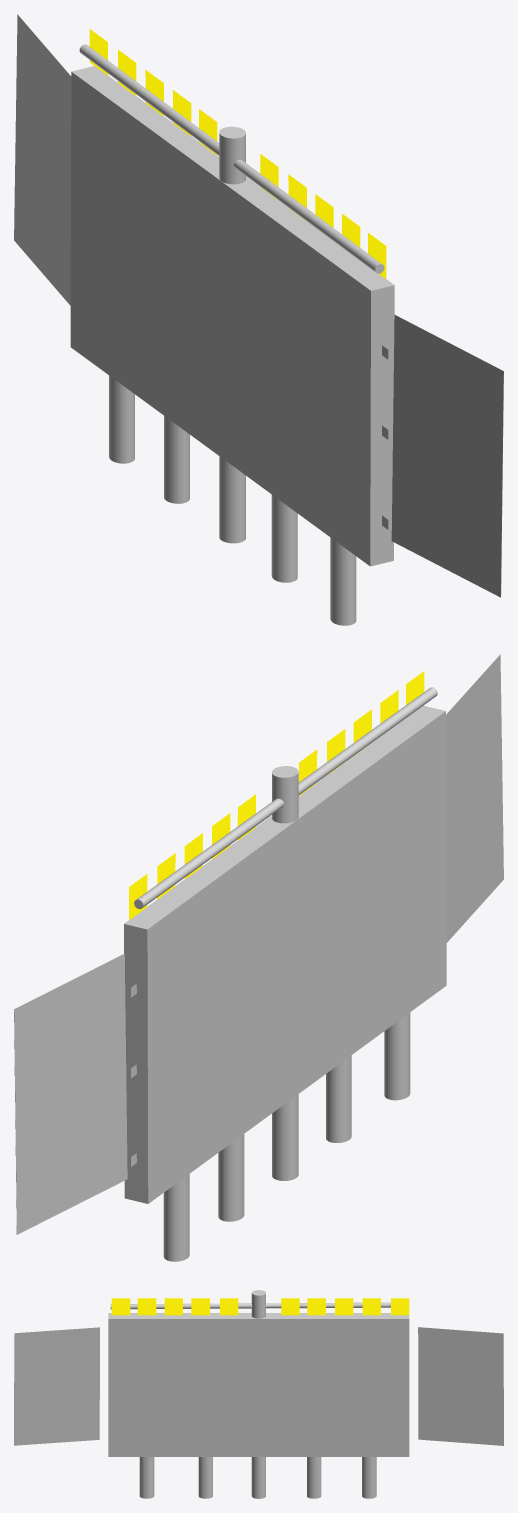
File: bill-board.glb
3 renders of one model, top to bottom at view 1: azimuth 30°, elevation 25°; view 2: azimuth 150°, elevation 25°; view 3: azimuth 270°, elevation 25°, orthographic. The views are drawn at different scales.
Visible parts, largest first — view 1: Board, LeftPanel, RightPanel, LightSupport, MainPillar, Pillar, Pillar.003, Pillar.001, Pillar.002; view 2: Board, RightPanel, LeftPanel, LightSupport, MainPillar, Pillar.003, Pillar.002, Pillar.001, Pillar; view 3: Board, LeftPanel, RightPanel, MainPillar, Pillar.003, Pillar, Pillar.002, Pillar.001, LightSupport, BloomLight.008, BloomLight.009, BloomLight.003 (+7 smaller).
Boxes of the visible parts, x1,y1,x2,y2 form: Board: (70, 66, 394, 566); LeftPanel: (391, 315, 503, 597); RightPanel: (14, 14, 71, 305); LightSupport: (79, 44, 384, 273); MainPillar: (219, 126, 245, 543); Pillar: (271, 495, 297, 582); Pillar.003: (330, 537, 356, 625); Pillar.001: (109, 375, 134, 463); Pillar.002: (164, 416, 189, 503); Board: (124, 705, 446, 1203); RightPanel: (14, 953, 127, 1234); LeftPanel: (446, 654, 503, 942); LightSupport: (134, 687, 437, 909); MainPillar: (272, 766, 298, 1180); Pillar.003: (384, 1012, 410, 1100); Pillar.002: (218, 1134, 244, 1221); Pillar.001: (163, 1174, 189, 1261); Pillar: (326, 1055, 351, 1142); Board: (108, 1313, 409, 1456); LeftPanel: (14, 1327, 99, 1445); RightPanel: (418, 1327, 503, 1445); MainPillar: (251, 1290, 265, 1498); Pillar.003: (139, 1457, 154, 1498); Pillar: (198, 1457, 212, 1498); Pillar.002: (307, 1457, 321, 1498); Pillar.001: (362, 1457, 376, 1498); LightSupport: (110, 1302, 390, 1309); BloomLight.008: (137, 1298, 156, 1315); BloomLight.009: (111, 1298, 130, 1315); BloomLight.003: (307, 1298, 325, 1315).
Bounding box in the file's own units: 1.47 × 13.89 × 30.31.
